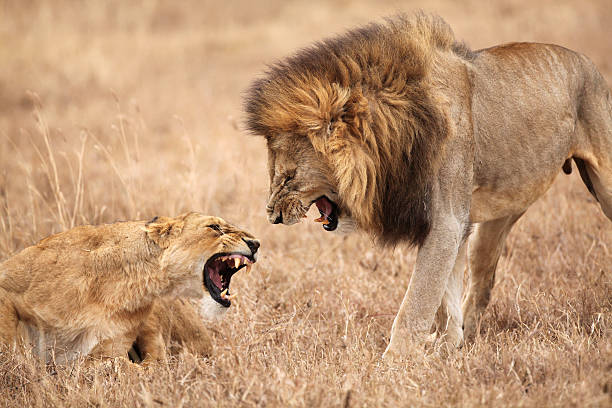lion: (228, 10, 494, 268)
